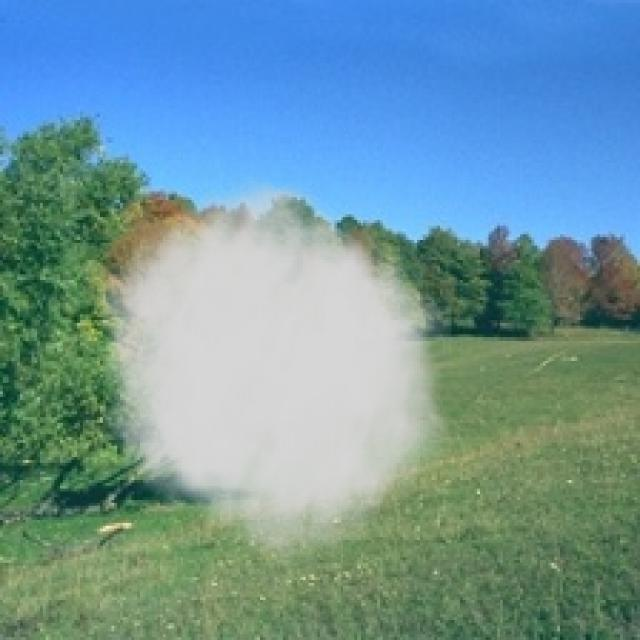Smoke: (82, 166, 452, 572)
